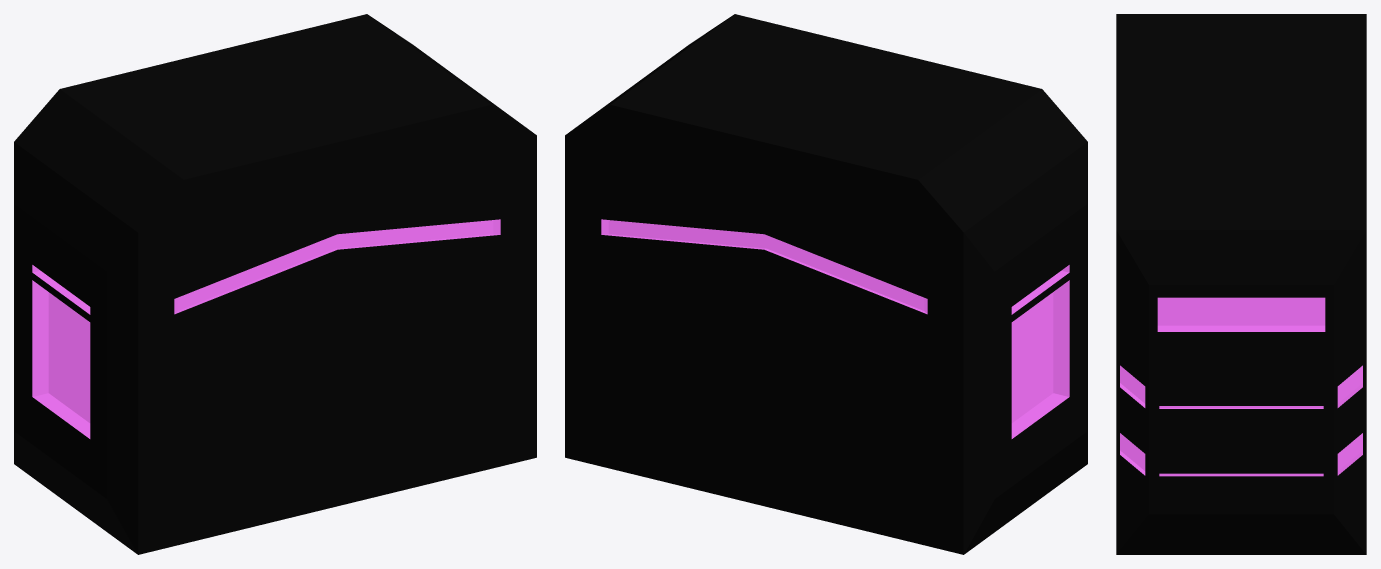
The model's file is Pc_Black.fbx.
The picture shows the model from 3 angles, left to right: view 1: azimuth 30°, elevation 25°; view 2: azimuth 150°, elevation 25°; view 3: azimuth 270°, elevation 25°; orthographic projection.
Parts seen in each view (by area): view 1: Pc_Black; view 2: Pc_Black; view 3: Pc_Black.
Part boxes in pixels (x1=…): Pc_Black: x1=14, y1=14, x2=536, y2=554; Pc_Black: x1=565, y1=14, x2=1087, y2=554; Pc_Black: x1=1116, y1=14, x2=1366, y2=554.
Bounding box in the file's own units: 759 × 616 × 381.
